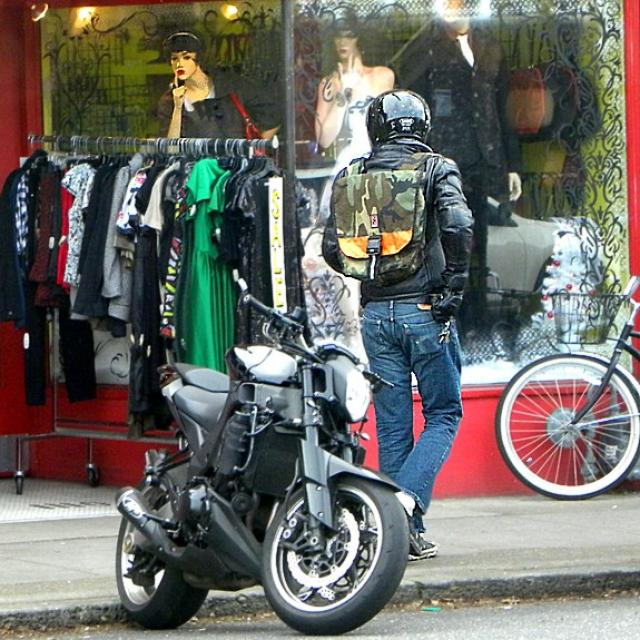motor: (113, 278, 410, 624)
